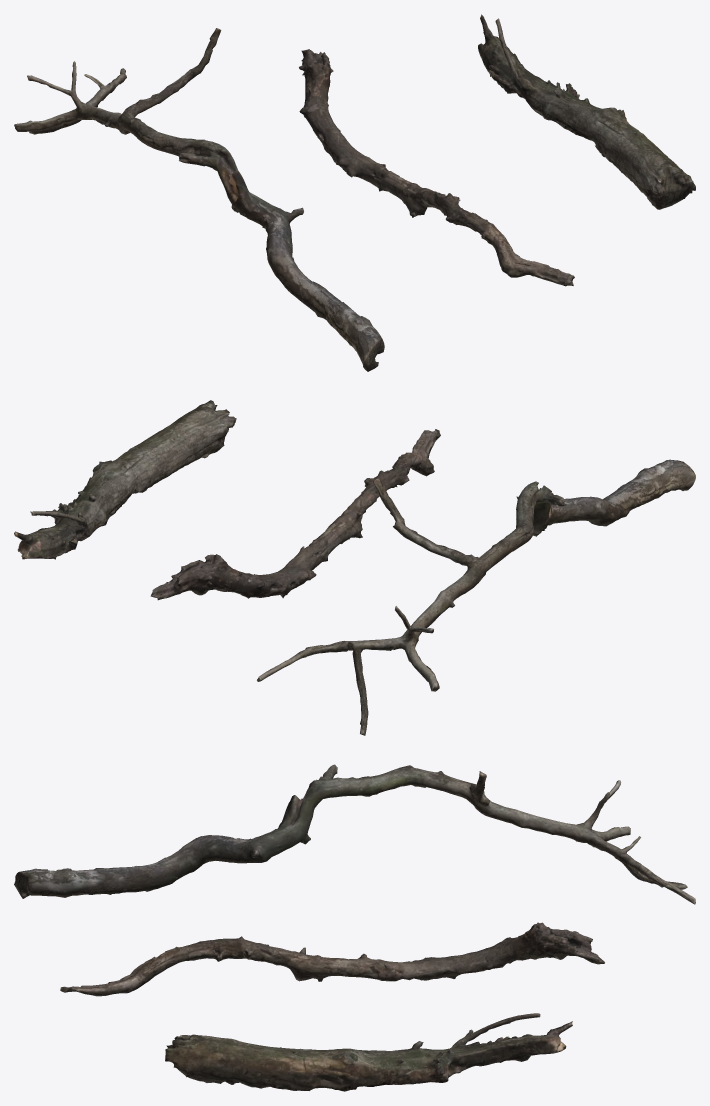
Rendered from dry_branches_medium_01.glb.
3 views of the same model, one above another, from view 1: azimuth 30°, elevation 25°; view 2: azimuth 150°, elevation 25°; view 3: azimuth 270°, elevation 25° (orthographic). The views are drawn at different scales.
Parts seen in each view (by area): view 1: dry_branches_medium_01_a, dry_branches_medium_01_c, dry_branches_medium_01_b; view 2: dry_branches_medium_01_a, dry_branches_medium_01_c, dry_branches_medium_01_b; view 3: dry_branches_medium_01_a, dry_branches_medium_01_c, dry_branches_medium_01_b.
Boxes of the visible parts, x1,y1,x2,y2 form: dry_branches_medium_01_a: (14, 28, 384, 371); dry_branches_medium_01_c: (478, 14, 695, 209); dry_branches_medium_01_b: (299, 49, 574, 286); dry_branches_medium_01_a: (257, 459, 695, 735); dry_branches_medium_01_c: (14, 400, 236, 559); dry_branches_medium_01_b: (150, 429, 440, 600); dry_branches_medium_01_a: (14, 764, 695, 904); dry_branches_medium_01_c: (165, 1013, 572, 1091); dry_branches_medium_01_b: (60, 922, 604, 996).
Bounding box in the file's own units: 1.06 × 0.341 × 1.3.
1 material, 1 textured.
